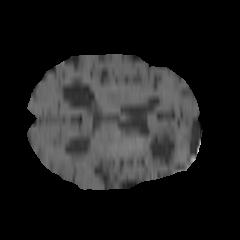glioma: (127, 117, 179, 171)
